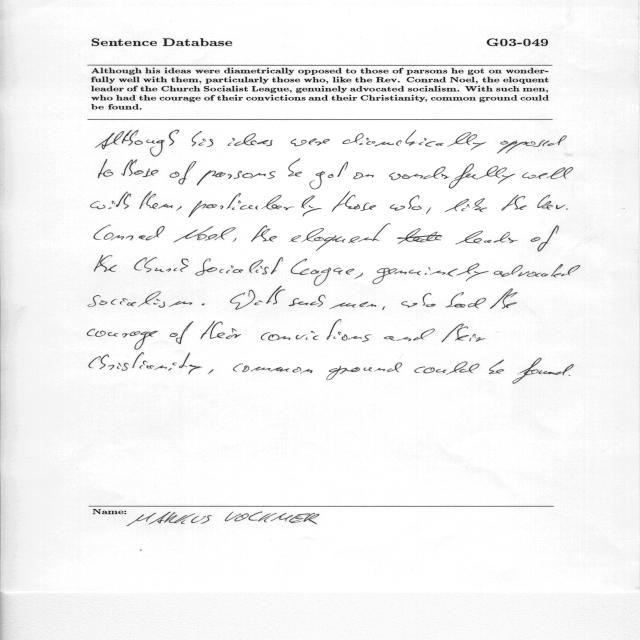word: (188, 193, 322, 217), (389, 164, 516, 189), (342, 130, 486, 150), (289, 223, 390, 251), (89, 353, 202, 375), (372, 264, 489, 285), (261, 320, 372, 342), (96, 130, 179, 157), (397, 228, 518, 245), (291, 258, 355, 286), (88, 291, 192, 308), (195, 257, 283, 276), (512, 358, 574, 384), (87, 328, 158, 350), (230, 286, 285, 310), (326, 363, 402, 380), (497, 136, 567, 154), (197, 171, 275, 186), (94, 225, 165, 241), (494, 264, 580, 277), (310, 162, 349, 190), (173, 226, 236, 243), (415, 361, 480, 375), (332, 192, 376, 212), (233, 363, 313, 374), (442, 324, 486, 343), (134, 257, 189, 272), (200, 320, 241, 339), (530, 226, 559, 252), (91, 192, 131, 209), (122, 159, 159, 177), (446, 292, 486, 308), (170, 161, 197, 184), (523, 167, 574, 179), (139, 191, 173, 209), (384, 329, 435, 341), (445, 199, 488, 213), (490, 288, 518, 309), (228, 133, 273, 146), (170, 321, 194, 344), (401, 293, 436, 308), (390, 195, 422, 211), (537, 195, 568, 210), (289, 295, 326, 307), (501, 194, 527, 211), (251, 225, 277, 242), (94, 255, 117, 272), (192, 131, 214, 147), (330, 302, 376, 309), (291, 139, 330, 147), (99, 159, 114, 178), (288, 159, 302, 177), (489, 360, 504, 374), (353, 172, 374, 179), (354, 273, 363, 279), (426, 208, 431, 215), (208, 369, 213, 374), (176, 206, 182, 210), (233, 238, 237, 242), (382, 306, 385, 310), (202, 303, 205, 305), (569, 375, 571, 376)
